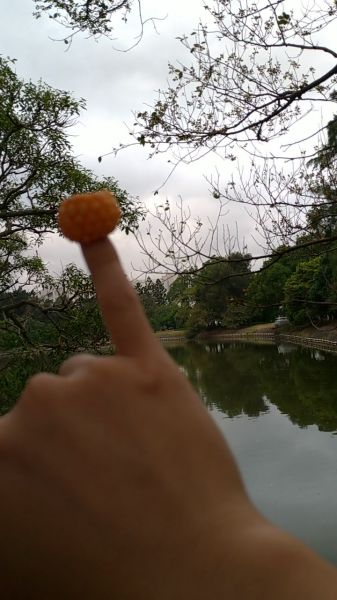eggs: (57, 189, 123, 243)
